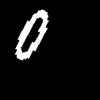chain: (15, 10, 47, 59)
